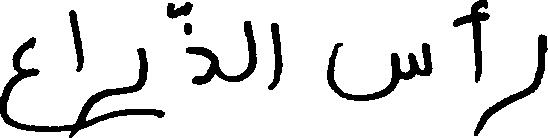X: (483, 0, 547, 131), (326, 38, 430, 105), (86, 43, 147, 132), (0, 32, 37, 136), (456, 0, 481, 137), (186, 0, 217, 89), (69, 5, 84, 137), (271, 18, 283, 94), (244, 16, 256, 83)
